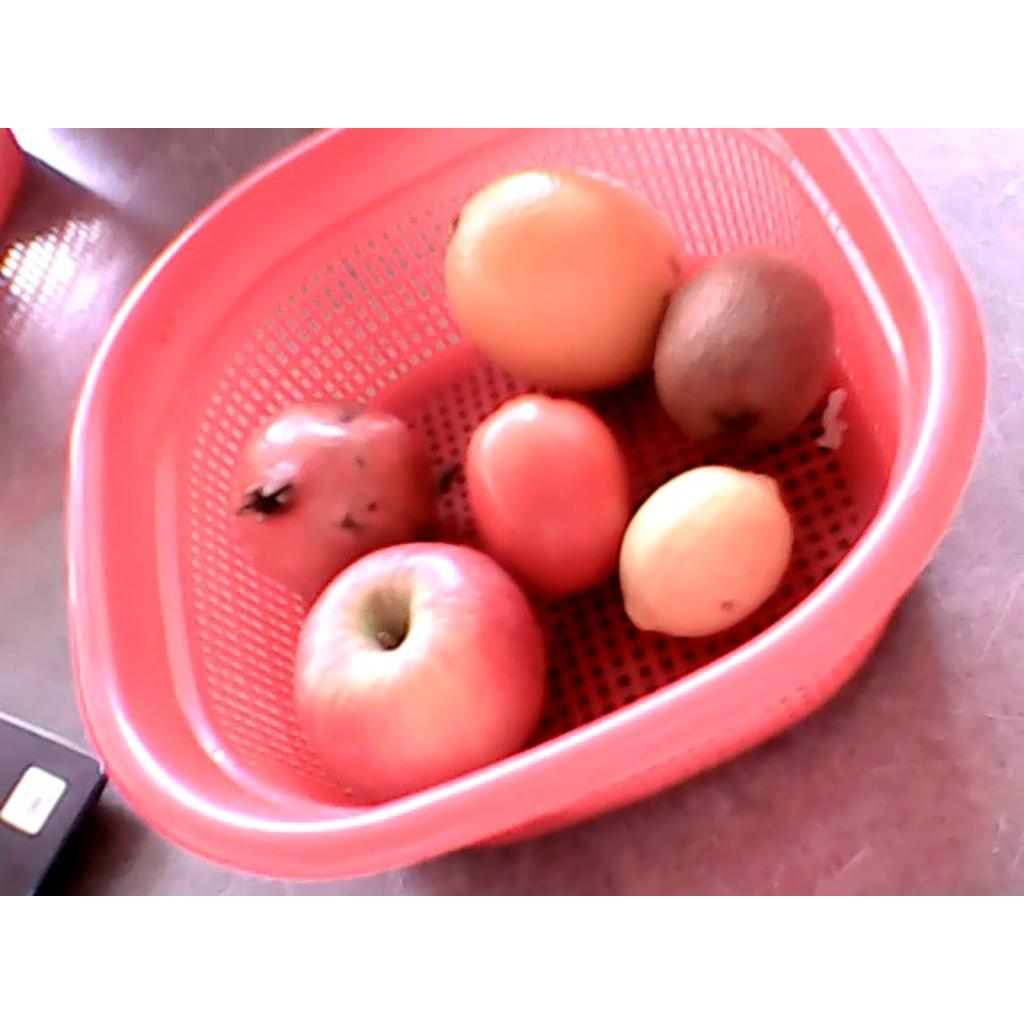apple: (292, 542, 548, 795)
kiwi: (655, 246, 834, 449)
lemon: (620, 466, 793, 636)
orange: (443, 164, 682, 391)
pomegranate: (226, 398, 433, 595)
tomato: (465, 395, 632, 601)
